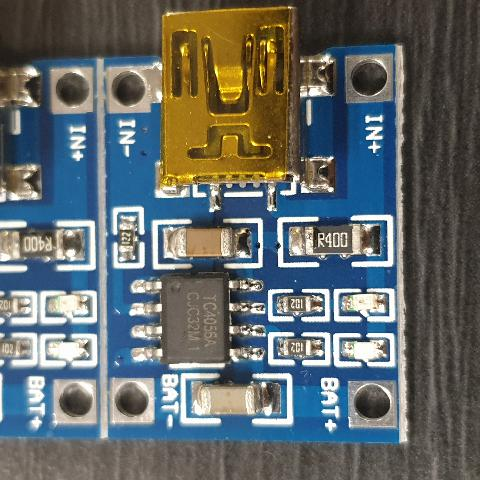batt+: (50, 380, 96, 423), (353, 382, 393, 426)
batt-: (116, 378, 149, 424)
charge: (326, 286, 388, 323), (36, 290, 92, 320)
done: (340, 335, 402, 363), (44, 335, 92, 363)
rprog: (112, 207, 142, 266)
usb: (168, 12, 288, 179)
